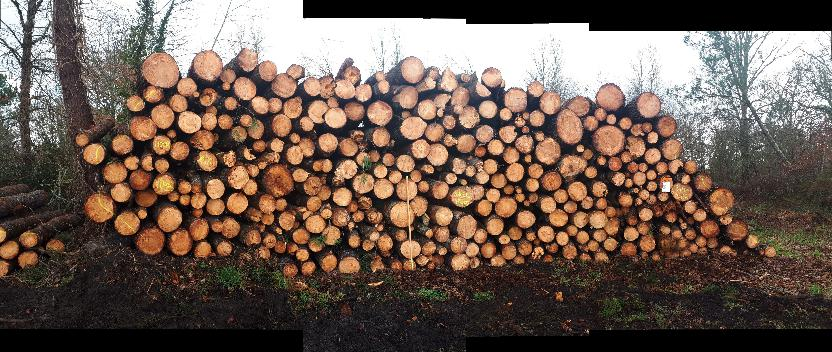object: (140, 49, 178, 88), (263, 160, 294, 200), (80, 189, 113, 221), (191, 47, 223, 80), (557, 107, 583, 144), (594, 125, 624, 155), (554, 154, 587, 180), (137, 224, 165, 253), (595, 83, 625, 110), (708, 185, 734, 214), (128, 115, 158, 140), (536, 134, 560, 164), (388, 200, 414, 226), (156, 205, 182, 231), (636, 90, 660, 118), (368, 99, 392, 126), (168, 228, 192, 255), (398, 115, 426, 138), (504, 87, 528, 112), (176, 109, 202, 132), (401, 57, 424, 83), (271, 73, 297, 96), (110, 130, 134, 154), (150, 102, 172, 128), (82, 140, 104, 166), (102, 160, 128, 182), (116, 211, 140, 234), (539, 90, 563, 112), (494, 195, 518, 217), (439, 66, 460, 91), (671, 181, 697, 201), (460, 104, 482, 127), (227, 189, 249, 212), (338, 253, 360, 276), (234, 76, 256, 99), (566, 95, 590, 116), (450, 184, 474, 205), (238, 46, 258, 71), (336, 156, 358, 178), (308, 98, 328, 122), (194, 150, 218, 170), (150, 173, 174, 193), (457, 213, 476, 238), (726, 218, 748, 239), (366, 252, 388, 273), (272, 113, 292, 136), (317, 132, 337, 155), (662, 137, 682, 160), (428, 142, 448, 165), (396, 177, 416, 200), (318, 74, 338, 97), (397, 84, 417, 107), (322, 107, 346, 126), (187, 217, 208, 238), (343, 100, 365, 120), (228, 164, 248, 186), (304, 213, 326, 233), (351, 173, 375, 191), (304, 172, 322, 196), (134, 188, 158, 206), (624, 135, 644, 156), (401, 238, 422, 258), (484, 64, 504, 85), (334, 78, 354, 99), (168, 141, 190, 160), (108, 181, 130, 200), (127, 171, 150, 189), (410, 193, 428, 216), (410, 138, 430, 158), (692, 171, 712, 191), (256, 193, 276, 213), (45, 238, 65, 258), (280, 98, 302, 116), (657, 114, 675, 136), (192, 130, 214, 148), (394, 154, 416, 172), (602, 216, 624, 234), (222, 216, 240, 238), (322, 225, 340, 247), (418, 98, 437, 118), (542, 169, 561, 189), (332, 185, 352, 204), (434, 205, 454, 224), (451, 86, 471, 105), (200, 86, 220, 105), (286, 144, 304, 165), (258, 60, 276, 81), (191, 240, 210, 259), (475, 123, 495, 141), (506, 161, 524, 181), (330, 207, 350, 225), (548, 208, 568, 226), (517, 208, 535, 228), (276, 211, 296, 229), (18, 230, 38, 248), (476, 100, 497, 117), (17, 250, 38, 267), (374, 177, 392, 196), (568, 181, 587, 199), (485, 215, 503, 234), (700, 218, 718, 237), (0, 239, 18, 258), (176, 75, 194, 94), (354, 82, 372, 101), (432, 92, 452, 109), (125, 94, 145, 111), (370, 128, 390, 145), (450, 252, 470, 269), (458, 132, 474, 153), (152, 134, 168, 155), (304, 76, 320, 97), (425, 122, 443, 140), (515, 135, 533, 153), (291, 165, 309, 183), (206, 177, 224, 195), (589, 210, 607, 228), (292, 226, 310, 244), (244, 228, 262, 246), (287, 61, 305, 79), (216, 237, 233, 256), (473, 80, 492, 97), (433, 179, 449, 199), (168, 94, 186, 111), (498, 125, 516, 142), (340, 138, 358, 155), (122, 153, 140, 170), (590, 179, 608, 196), (206, 197, 224, 214), (526, 79, 544, 96), (248, 119, 264, 138), (298, 138, 314, 157), (317, 180, 333, 199), (321, 253, 337, 272), (142, 85, 162, 100), (252, 95, 268, 113), (240, 143, 256, 161), (502, 146, 518, 164), (188, 192, 206, 208), (540, 195, 556, 213), (450, 235, 466, 253), (620, 240, 636, 258), (254, 244, 270, 262), (344, 65, 360, 83), (74, 127, 88, 147), (141, 150, 155, 170), (487, 138, 503, 155), (644, 147, 660, 164), (476, 197, 492, 214), (434, 224, 450, 241), (245, 206, 263, 221), (297, 115, 316, 129), (266, 96, 282, 112), (201, 112, 217, 128), (528, 162, 544, 178), (490, 171, 506, 187), (306, 194, 322, 210), (538, 225, 554, 241), (640, 235, 656, 251), (480, 242, 496, 258), (562, 243, 578, 259), (530, 108, 544, 126), (155, 155, 169, 173), (658, 235, 676, 249), (231, 125, 247, 140), (451, 157, 466, 173), (242, 178, 258, 193), (618, 190, 633, 206), (638, 205, 654, 220), (506, 224, 522, 239), (308, 237, 324, 252), (517, 239, 533, 254), (220, 68, 236, 83), (377, 233, 391, 250), (282, 260, 296, 277), (223, 148, 236, 166), (442, 112, 456, 128), (270, 136, 284, 152), (356, 150, 370, 166), (668, 158, 684, 172), (482, 159, 498, 173), (388, 168, 404, 182), (474, 169, 490, 183), (177, 177, 191, 193), (487, 186, 501, 202), (368, 209, 382, 225), (573, 211, 587, 227), (421, 240, 437, 254), (501, 245, 517, 259), (218, 113, 232, 128), (583, 115, 597, 130), (442, 131, 456, 146), (381, 151, 395, 166), (684, 159, 698, 174), (553, 187, 567, 202), (274, 195, 288, 210), (474, 227, 488, 242), (744, 232, 758, 247), (300, 260, 314, 275), (223, 96, 239, 109), (252, 139, 268, 152), (471, 184, 484, 200), (636, 221, 652, 234), (390, 256, 402, 273), (320, 157, 334, 171), (610, 170, 624, 184), (664, 208, 678, 222), (623, 226, 637, 240), (592, 227, 606, 241), (362, 236, 376, 250), (247, 163, 262, 176), (492, 253, 507, 266), (331, 173, 347, 185), (348, 231, 360, 247), (239, 113, 253, 126), (618, 116, 632, 129), (366, 149, 380, 162), (563, 199, 577, 212), (693, 207, 707, 220), (261, 210, 275, 223), (394, 227, 408, 240), (576, 229, 590, 242), (603, 237, 617, 250), (296, 246, 310, 259), (263, 232, 275, 247), (466, 241, 478, 256), (378, 80, 390, 95), (401, 259, 417, 270), (326, 95, 340, 107), (499, 106, 511, 120), (632, 122, 644, 136), (350, 127, 362, 141), (310, 158, 324, 170), (421, 162, 435, 174), (374, 163, 386, 177), (634, 170, 646, 184), (660, 175, 672, 189), (526, 176, 538, 190), (357, 196, 371, 208), (718, 211, 732, 223), (211, 219, 223, 233), (0, 221, 7, 245), (556, 230, 568, 244), (694, 234, 708, 246), (675, 235, 687, 249), (274, 239, 286, 253), (239, 250, 251, 264), (595, 252, 609, 264), (608, 157, 620, 170), (581, 195, 593, 208), (352, 208, 364, 221), (658, 222, 670, 235), (286, 240, 298, 253), (546, 241, 558, 254), (594, 196, 608, 207), (318, 207, 332, 218), (512, 253, 526, 264), (422, 77, 436, 88), (0, 259, 9, 276), (288, 131, 300, 143), (190, 181, 202, 193), (178, 192, 190, 204), (684, 200, 696, 212), (579, 252, 591, 264), (473, 145, 486, 156), (418, 178, 429, 191), (533, 244, 544, 257), (584, 166, 598, 176), (410, 167, 420, 181), (763, 246, 777, 256), (594, 108, 606, 119), (620, 150, 632, 161), (566, 224, 578, 235), (670, 227, 682, 238), (368, 229, 380, 240), (586, 239, 598, 250), (719, 243, 731, 254), (468, 256, 480, 267), (374, 69, 386, 80), (648, 130, 658, 143), (656, 161, 666, 174), (428, 66, 438, 79), (204, 104, 216, 114), (606, 112, 616, 124), (627, 160, 637, 172), (466, 164, 476, 176), (445, 172, 457, 182), (646, 193, 658, 203), (191, 206, 203, 216), (137, 206, 147, 218), (685, 227, 695, 239), (498, 234, 510, 244), (706, 235, 716, 247), (680, 248, 692, 258), (642, 120, 652, 131), (583, 148, 594, 158), (528, 189, 538, 200), (168, 189, 178, 200), (659, 190, 669, 201), (347, 199, 357, 210), (605, 204, 615, 215), (628, 214, 638, 225), (432, 253, 442, 264), (696, 245, 708, 254), (452, 102, 462, 112), (166, 128, 176, 138), (646, 169, 656, 179), (647, 180, 657, 190), (504, 184, 514, 194), (347, 219, 357, 229), (416, 254, 426, 264), (292, 94, 304, 102), (523, 153, 533, 162), (596, 156, 606, 165), (638, 188, 648, 197), (526, 230, 536, 239), (688, 242, 698, 251), (542, 253, 552, 262), (461, 71, 469, 82), (439, 245, 448, 254), (514, 115, 522, 125), (536, 130, 544, 140), (257, 159, 265, 169), (639, 160, 647, 170), (680, 174, 690, 182), (620, 205, 630, 213), (424, 227, 432, 237), (650, 253, 660, 261), (625, 177, 633, 186), (516, 192, 524, 201), (614, 206, 622, 215), (640, 250, 648, 259), (222, 80, 230, 89), (402, 110, 412, 117), (678, 221, 688, 228), (576, 143, 584, 151), (514, 184, 522, 191), (687, 215, 695, 222), (376, 222, 384, 229), (427, 261, 435, 268), (192, 90, 200, 97), (522, 125, 528, 134), (758, 247, 764, 256), (422, 217, 429, 224), (437, 107, 443, 115), (275, 226, 281, 234), (437, 164, 444, 170), (635, 197, 642, 203), (533, 236, 539, 243), (524, 111, 528, 120), (624, 171, 630, 177), (524, 199, 530, 205), (428, 255, 434, 261), (408, 225, 414, 230), (742, 248, 748, 253), (732, 248, 736, 255), (634, 187, 638, 193), (678, 217, 682, 222)
pile: (73, 35, 785, 279)
